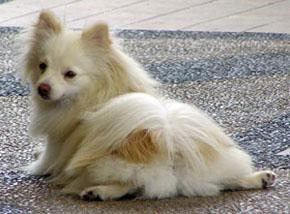dog: (24, 9, 108, 103)
